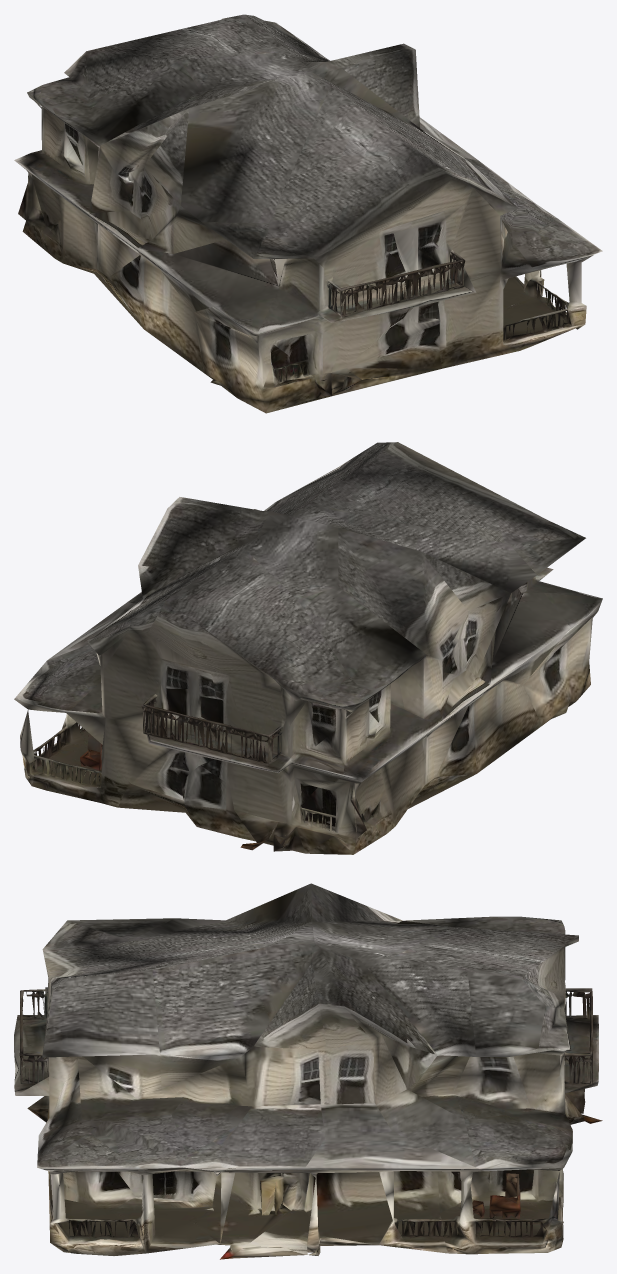
Rendered from haus_usa.glb.
The picture shows the model from 3 angles, top to bottom: view 1: azimuth 30°, elevation 25°; view 2: azimuth 150°, elevation 25°; view 3: azimuth 270°, elevation 25°; orthographic projection. The views are drawn at different scales.
Parts seen in each view (by area): view 1: tripo_node_6136aab9-2c9e-4b6f-b110-c6af2428b96c; view 2: tripo_node_6136aab9-2c9e-4b6f-b110-c6af2428b96c; view 3: tripo_node_6136aab9-2c9e-4b6f-b110-c6af2428b96c.
Boxes of the visible parts, x1,y1,x2,y2 form: tripo_node_6136aab9-2c9e-4b6f-b110-c6af2428b96c: (14, 14, 602, 413); tripo_node_6136aab9-2c9e-4b6f-b110-c6af2428b96c: (14, 442, 602, 854); tripo_node_6136aab9-2c9e-4b6f-b110-c6af2428b96c: (14, 883, 602, 1259).
Size of the model in its own units: 0.7516 by 0.4314 by 0.9845.
Materials: 1 (1 with a texture image).
